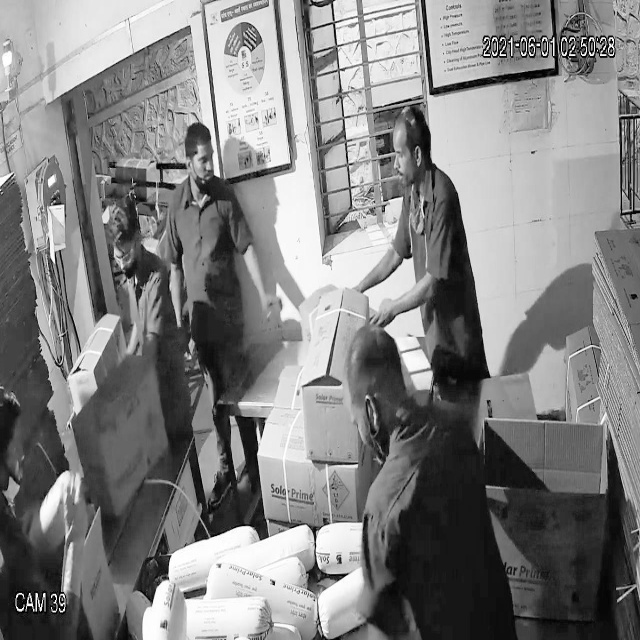Gafas: (110, 239, 139, 270)
Sin_gafas: (386, 137, 423, 174), (184, 142, 221, 176)
